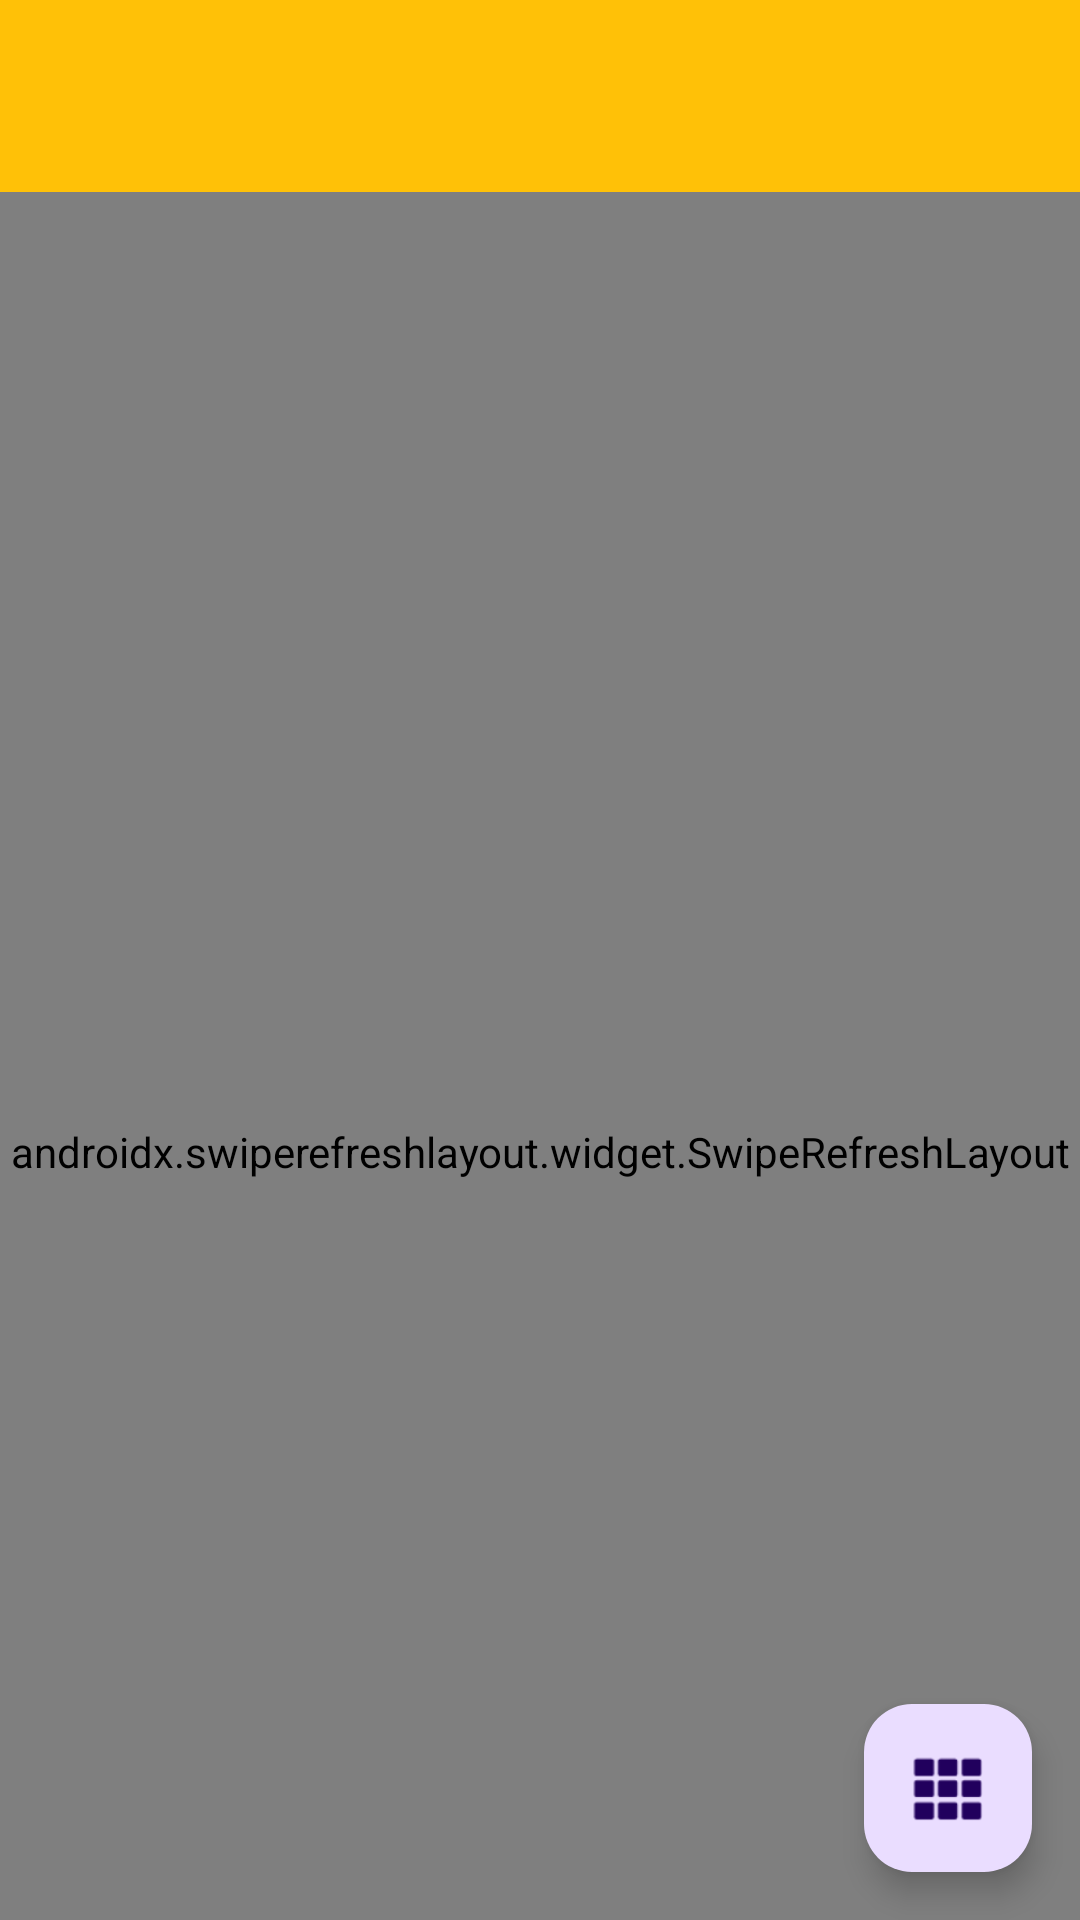

Named icons in this screenshot (1080px x 1920px) and their centers, (x,y):
dialer: (948,1788)
